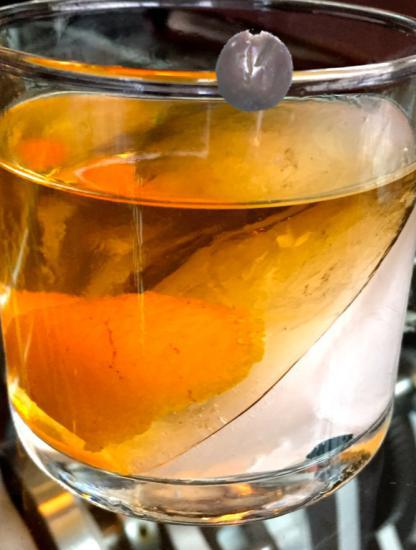Passion: (212, 28, 298, 114)
